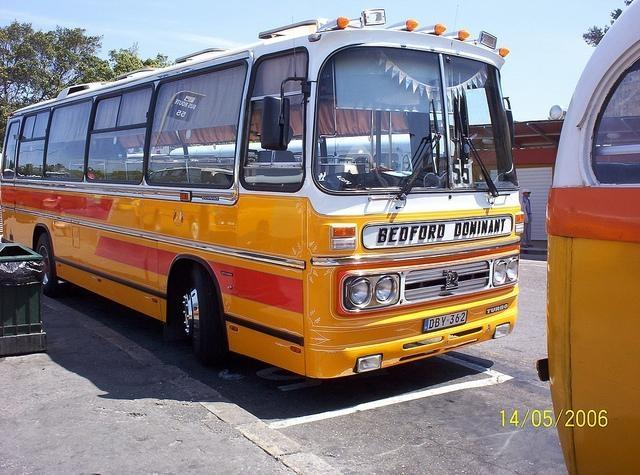bus: (2, 12, 527, 373), (537, 2, 640, 468)
